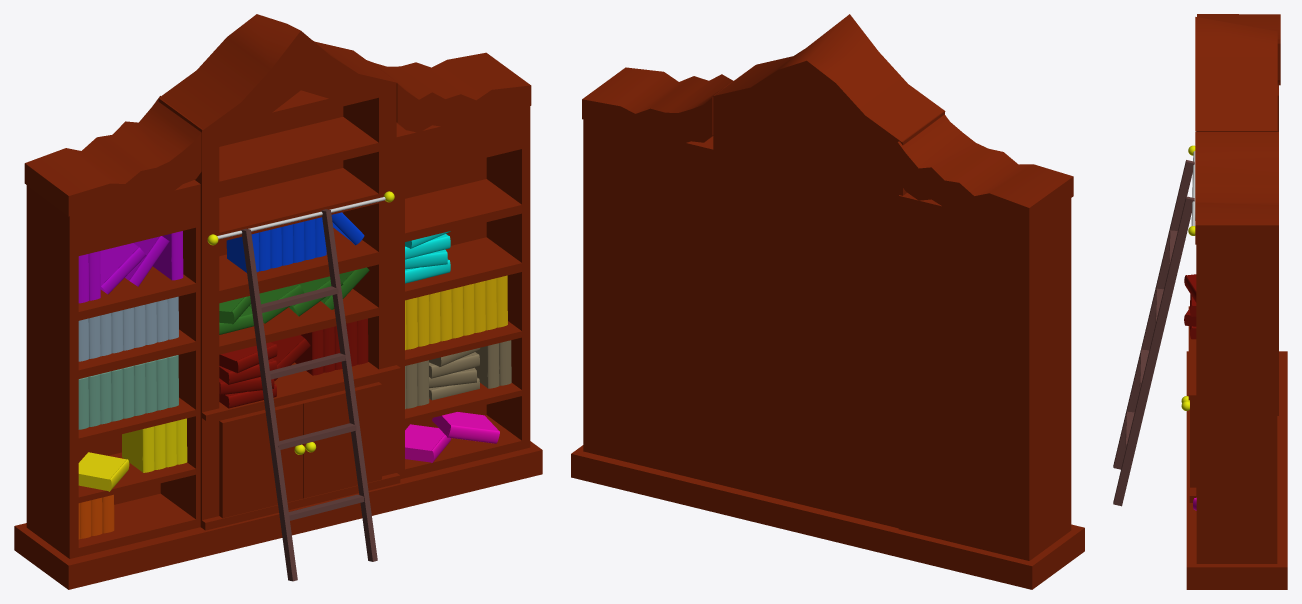
Rendered from Bookshelf_Large.fbx.
3 views of the same model, side by side, from view 1: azimuth 30°, elevation 25°; view 2: azimuth 150°, elevation 25°; view 3: azimuth 270°, elevation 25° (orthographic). The views are drawn at different scales.
Visible parts, largest first — view 1: BookshelfLarge; view 2: BookshelfLarge; view 3: BookshelfLarge.
Part boxes in pixels (x1=…): BookshelfLarge: x1=14, y1=14, x2=542, y2=589; BookshelfLarge: x1=571, y1=14, x2=1084, y2=589; BookshelfLarge: x1=1113, y1=14, x2=1287, y2=589.
Size of the model in its own units: 4.8 by 4.92 by 1.64.
